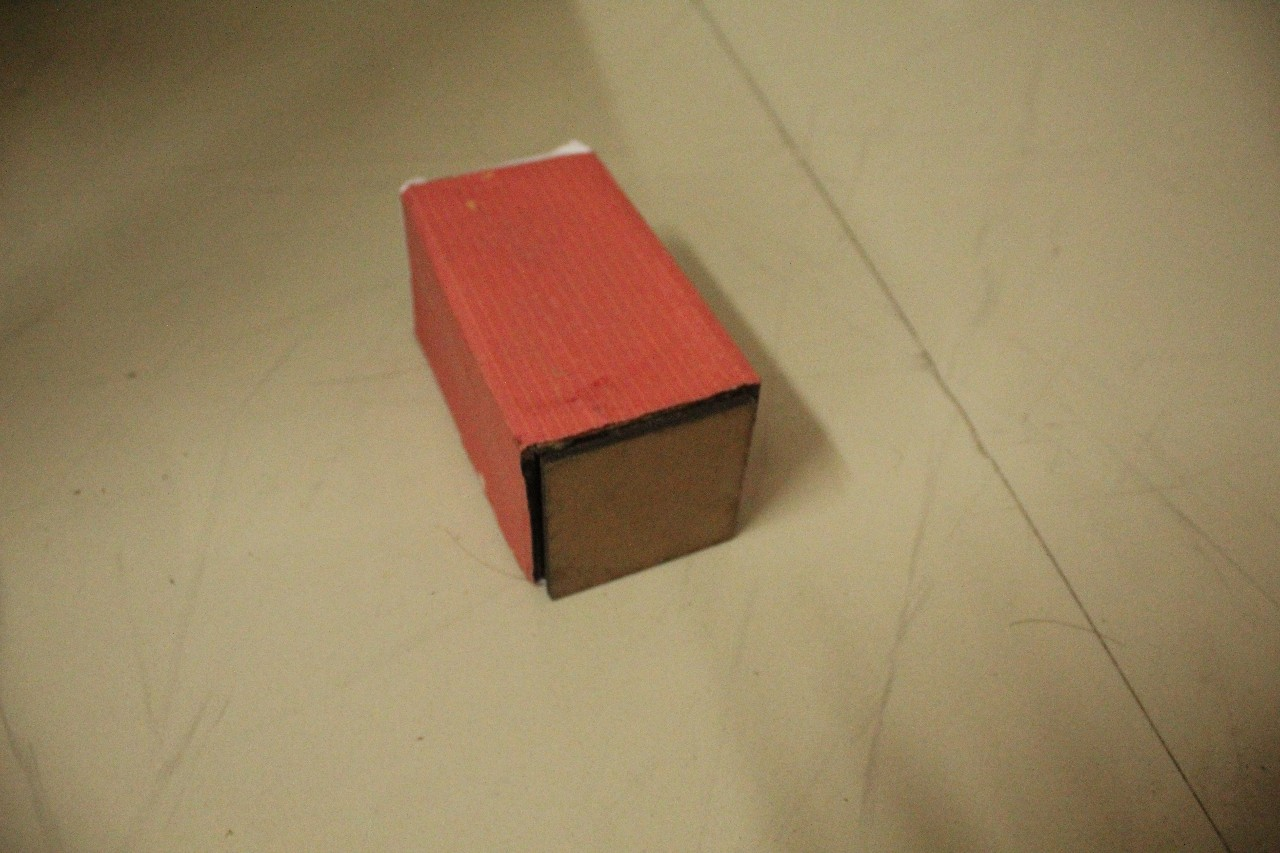red: (535, 393, 779, 606)
